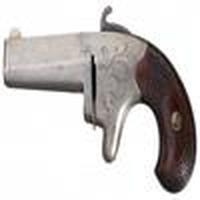gun: (2, 12, 196, 188)
